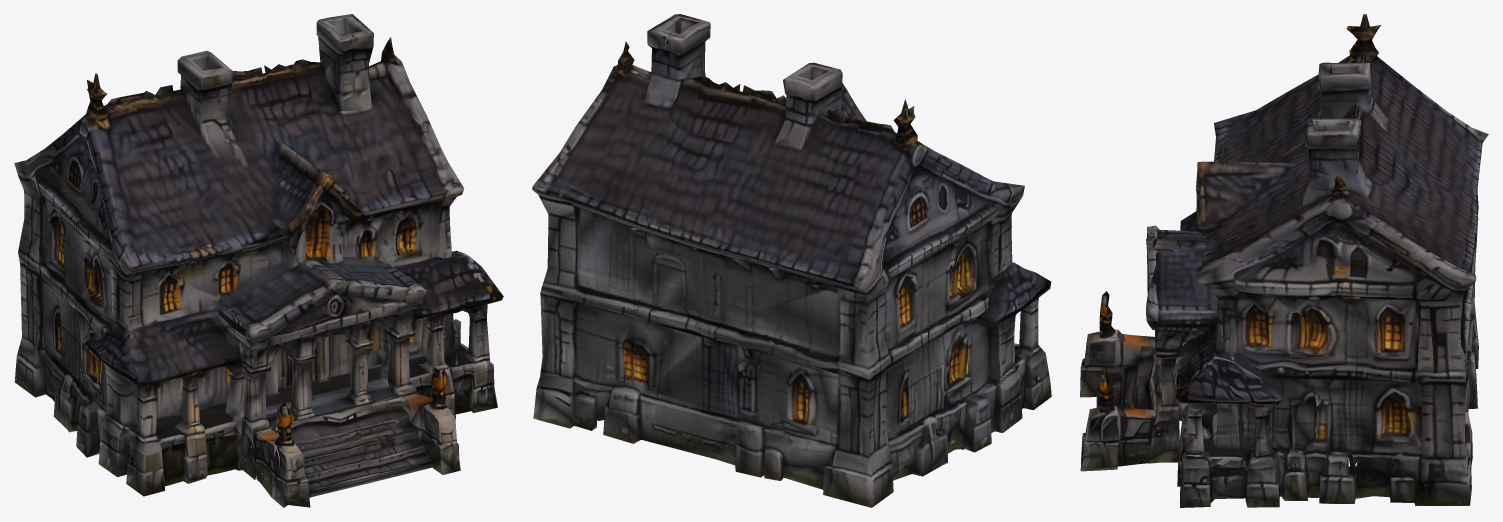
Rendered from n_guildhall.glb.
3 views of the same model, side by side, from view 1: azimuth 30°, elevation 25°; view 2: azimuth 150°, elevation 25°; view 3: azimuth 270°, elevation 25° (orthographic). The views are drawn at different scales.
Parts seen in each view (by area): view 1: tripo_node_097b1c53-89a4-441d-952b-96901d706ddc; view 2: tripo_node_097b1c53-89a4-441d-952b-96901d706ddc; view 3: tripo_node_097b1c53-89a4-441d-952b-96901d706ddc.
Boxes of the visible parts, box(x1,y1,x2,y2) form: tripo_node_097b1c53-89a4-441d-952b-96901d706ddc: box(14, 14, 503, 507); tripo_node_097b1c53-89a4-441d-952b-96901d706ddc: box(532, 14, 1051, 507); tripo_node_097b1c53-89a4-441d-952b-96901d706ddc: box(1080, 14, 1488, 507).
Bounding box in the file's own units: 5 × 4.55 × 4.79.
1 material, 1 textured.
